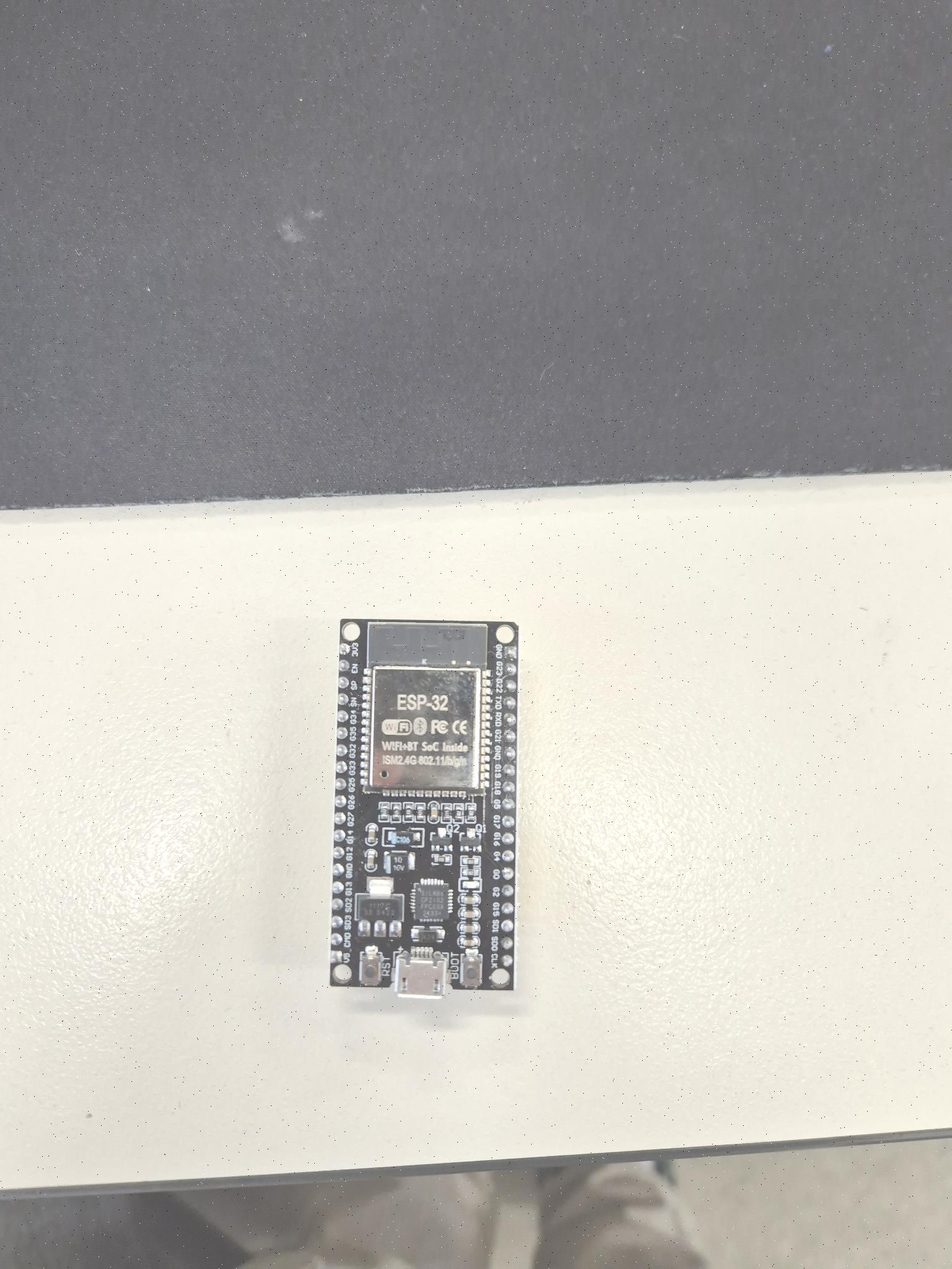esp32-dev: (338, 612, 519, 995)
